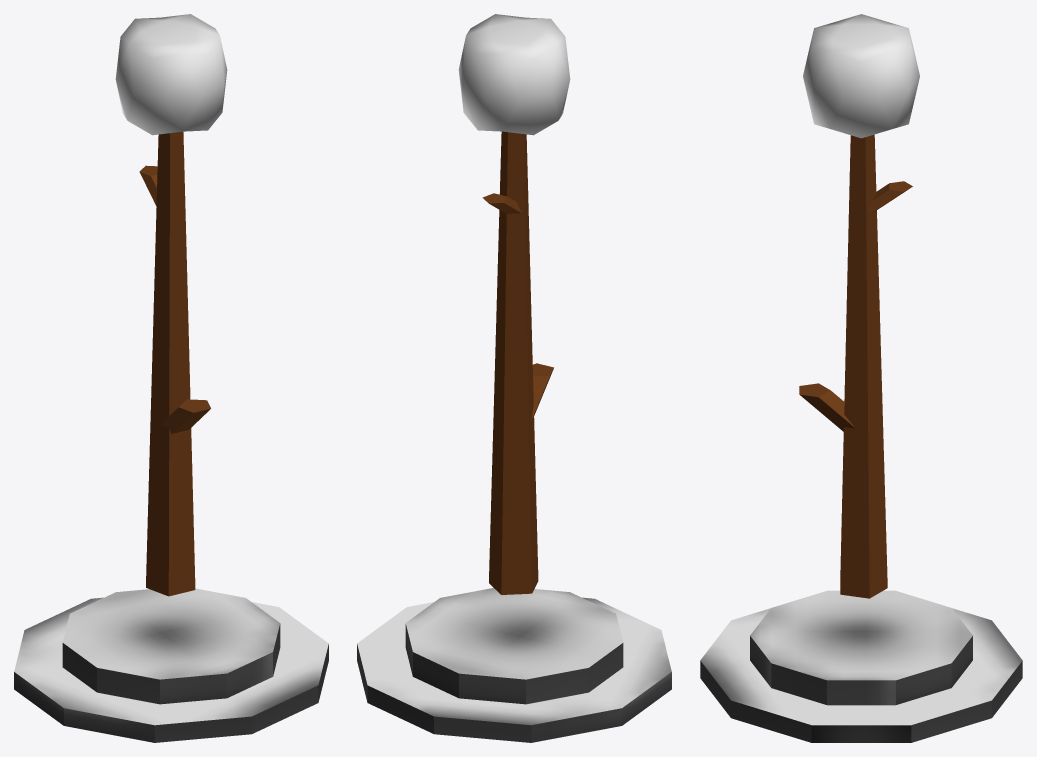
Rendered from marshellow piece.dae.
3 renders of one model, left to right at view 1: azimuth 30°, elevation 25°; view 2: azimuth 150°, elevation 25°; view 3: azimuth 270°, elevation 25°, orthographic.
Parts seen in each view (by area): view 1: Circle_001; view 2: Circle_001; view 3: Circle_001.
Part boxes in pixels (<box>): Circle_001: <box>14,14,328,742</box>; Circle_001: <box>357,14,671,742</box>; Circle_001: <box>700,14,1022,742</box>.
Size of the model in its own units: 0.1041 by 0.1094 by 0.2411.
1 material, 1 textured.
